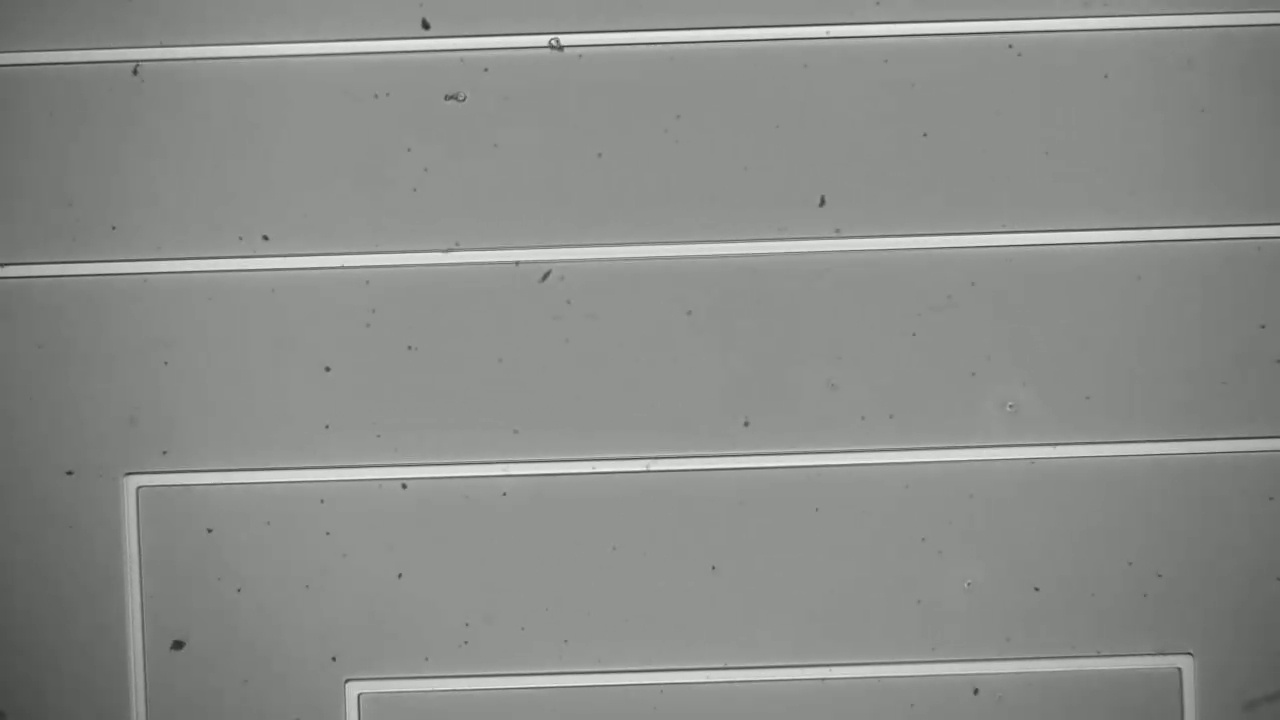stains_enbedded: (537, 29, 574, 58)
